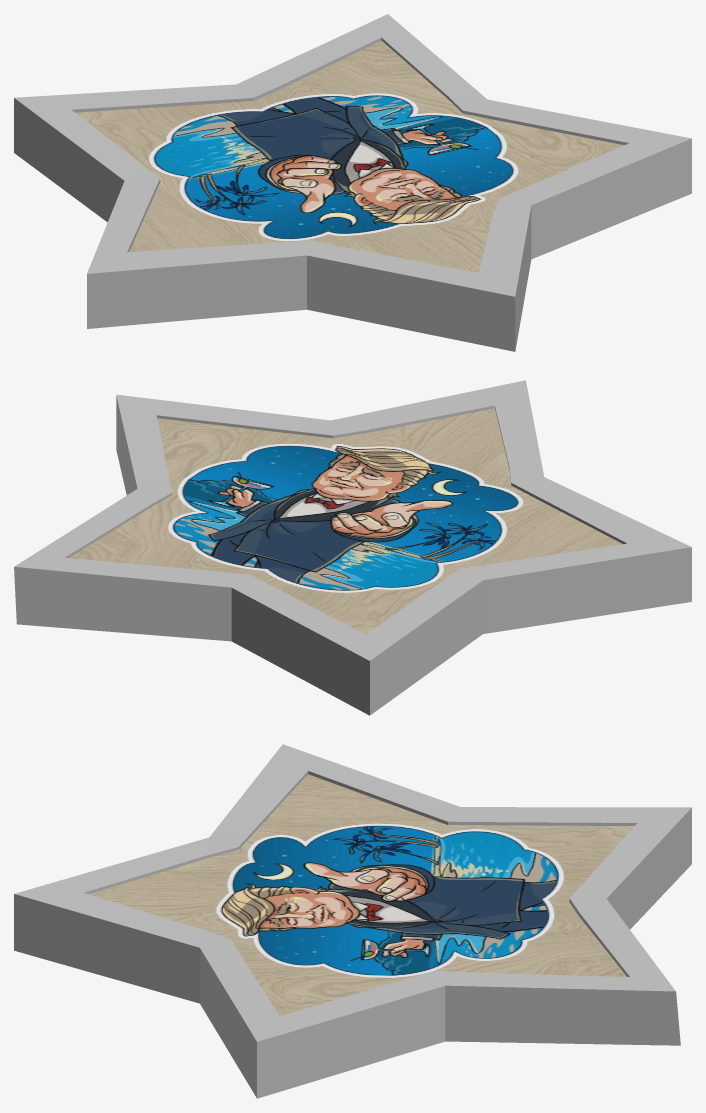
Rendered from Puzzle_24.FBX.
3 renders of one model, top to bottom at view 1: azimuth 30°, elevation 25°; view 2: azimuth 150°, elevation 25°; view 3: azimuth 270°, elevation 25°, orthographic. The views are drawn at different scales.
Visible parts, largest first — view 1: Cylinder003, 066, 060, 065, 062, 058, 057; view 2: Cylinder003, 066, 060, 065, 062, 058, 057; view 3: Cylinder003, 066, 060, 065, 062, 058, 057.
Part boxes in pixels (left/top/right/bottom): Cylinder003: left=14, top=14, right=691, bottom=351; 066: left=279, top=41, right=623, bottom=190; 060: left=317, top=155, right=523, bottom=272; 065: left=75, top=90, right=367, bottom=181; 062: left=196, top=114, right=357, bottom=228; 058: left=137, top=203, right=416, bottom=251; 057: left=129, top=173, right=295, bottom=251; Cylinder003: left=14, top=380, right=691, bottom=715; 066: left=69, top=418, right=376, bottom=570; 060: left=234, top=408, right=509, bottom=513; 065: left=183, top=530, right=457, bottom=634; 062: left=237, top=491, right=477, bottom=564; 058: left=409, top=452, right=622, bottom=544; 057: left=391, top=520, right=616, bottom=569; Cylinder003: left=14, top=744, right=691, bottom=1098; 066: left=243, top=897, right=626, bottom=1015; 060: left=89, top=858, right=382, bottom=969; 065: left=434, top=825, right=634, bottom=946; 062: left=267, top=839, right=531, bottom=930; 058: left=204, top=774, right=352, bottom=895; 057: left=308, top=774, right=446, bottom=873.
Bounding box in the file's own units: 3.81 × 0.3387 × 3.66.
